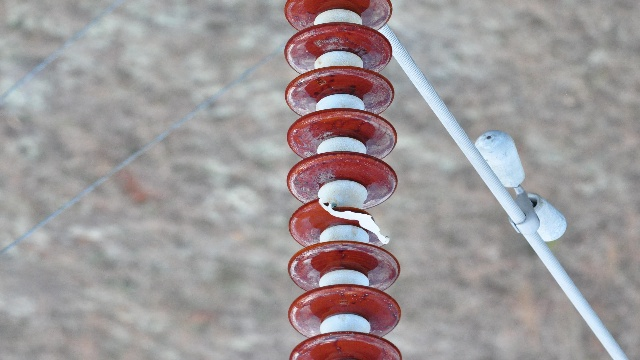broken_local: (316, 195, 391, 245)
insulator_unspecified: (284, 0, 401, 359)
